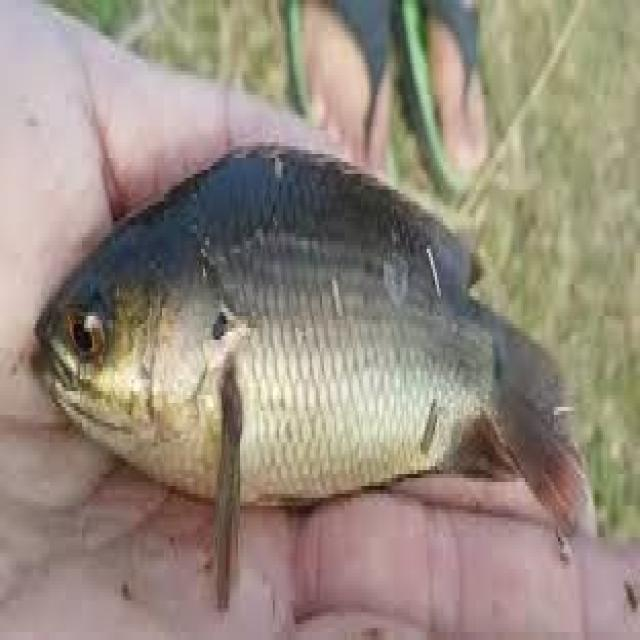Climbing-Perch: (32, 95, 584, 578)
